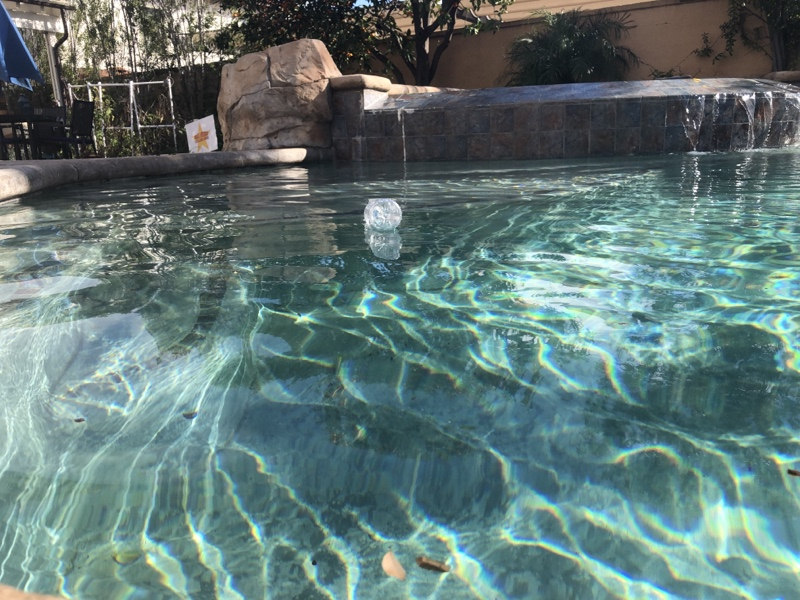Plastic Bottle: (361, 196, 408, 234)
